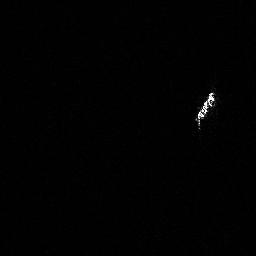ship: (192, 89, 218, 131)
